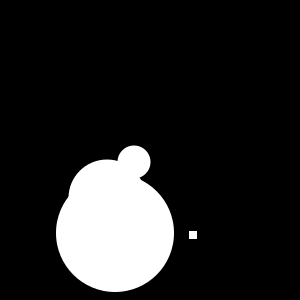circle: (189, 231, 197, 239)
rectangle: (56, 174, 174, 292), (69, 160, 146, 236), (118, 146, 150, 179)
